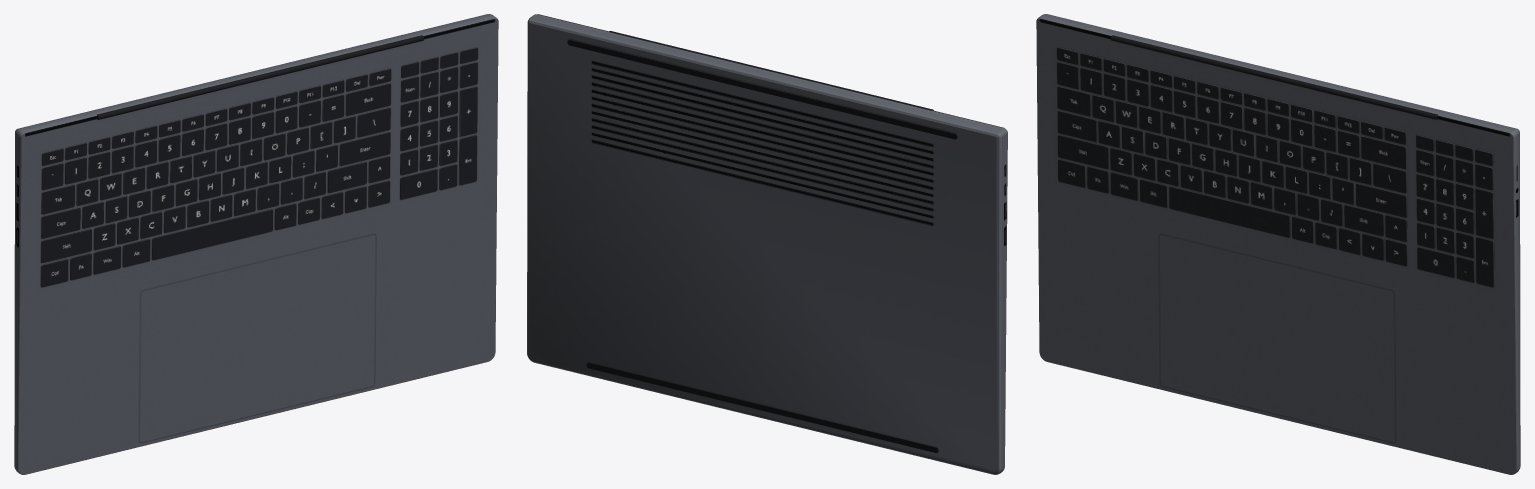
File: body.obj
3 renders of one model, left to right at view 1: azimuth 30°, elevation 25°; view 2: azimuth 150°, elevation 25°; view 3: azimuth 330°, elevation 25°, orthographic.
Parts seen in each view (by area): view 1: deck, keys, base.002, hinge, base.003, base.005; view 2: base, base.006, base.002, base.003, hinge; view 3: deck, keys, base.002, hinge, base.001, base.005.
Boxes of the visible parts, x1,y1,x2,y2 form: deck: (18,18,498,474); keys: (40,47,477,287); base.002: (16,14,497,134); hinge: (97,35,423,119); base.003: (14,130,22,473); base.005: (18,22,498,474); base: (527,20,1000,474); base.006: (567,40,957,452); base.002: (528,14,1006,135); base.003: (999,130,1007,473); hinge: (609,31,933,110); deck: (1036,18,1516,474); keys: (1057,47,1494,287); base.002: (1037,14,1518,134); hinge: (1111,35,1437,119); base.001: (1512,130,1520,473); base.005: (1036,22,1516,474).
Bounding box in the file's own units: 355 × 246 × 13.25.
8 materials, 6 textured.
